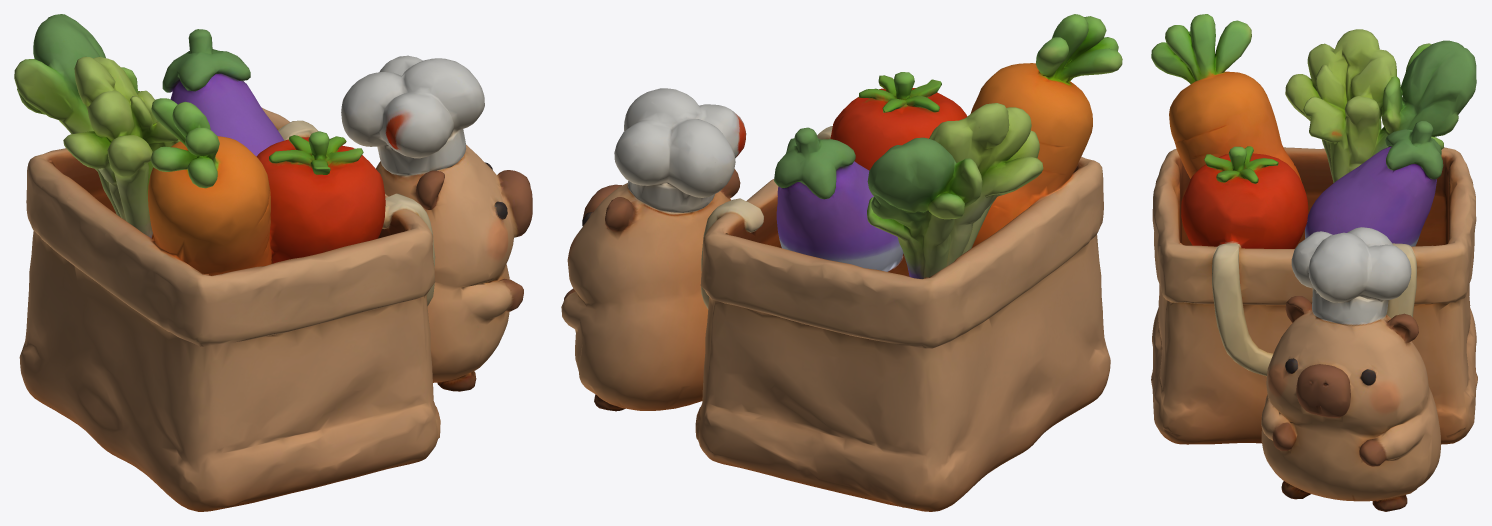
File: discovery-groceries.glb
The picture shows the model from 3 angles, left to right: view 1: azimuth 30°, elevation 25°; view 2: azimuth 150°, elevation 25°; view 3: azimuth 270°, elevation 25°; orthographic projection. The views are drawn at different scales.
Parts seen in each view (by area): view 1: tripo_node_07b32952-e1c5-4ae7-9a0e-7f6daa1c1214; view 2: tripo_node_07b32952-e1c5-4ae7-9a0e-7f6daa1c1214; view 3: tripo_node_07b32952-e1c5-4ae7-9a0e-7f6daa1c1214.
Part boxes in pixels (x1,y1,x2,y2): tripo_node_07b32952-e1c5-4ae7-9a0e-7f6daa1c1214: (14,14,532,511); tripo_node_07b32952-e1c5-4ae7-9a0e-7f6daa1c1214: (561,14,1122,511); tripo_node_07b32952-e1c5-4ae7-9a0e-7f6daa1c1214: (1151,14,1477,511).
Bounding box in the file's own units: 1 × 0.8389 × 0.7228.
1 material, 1 textured.
